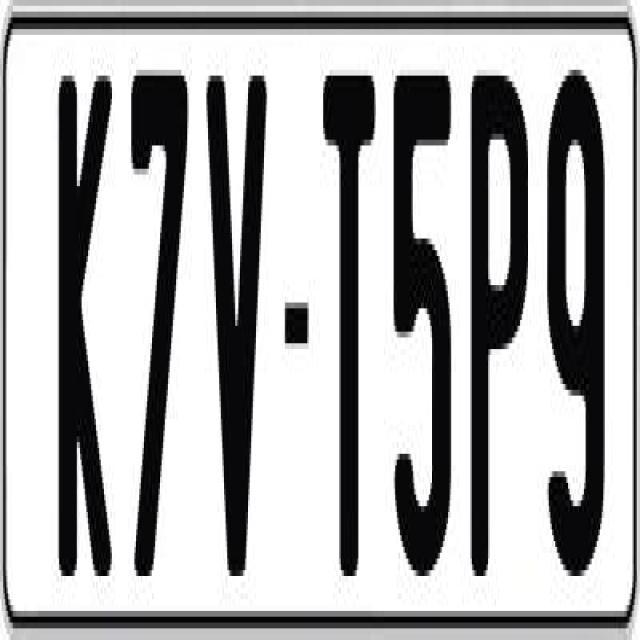5: (388, 70, 452, 606)
7: (126, 76, 184, 582)
9: (542, 63, 606, 600)
K: (55, 58, 112, 594)
P: (467, 64, 525, 594)
T: (320, 58, 378, 594)
V: (202, 75, 266, 606)
